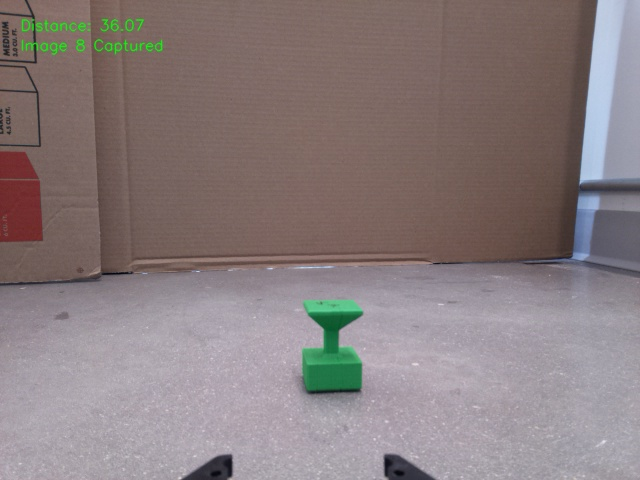block: (302, 298, 365, 392)
